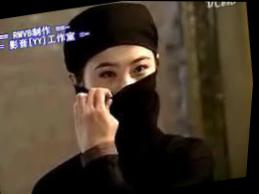WRONG: (76, 40, 166, 133)
